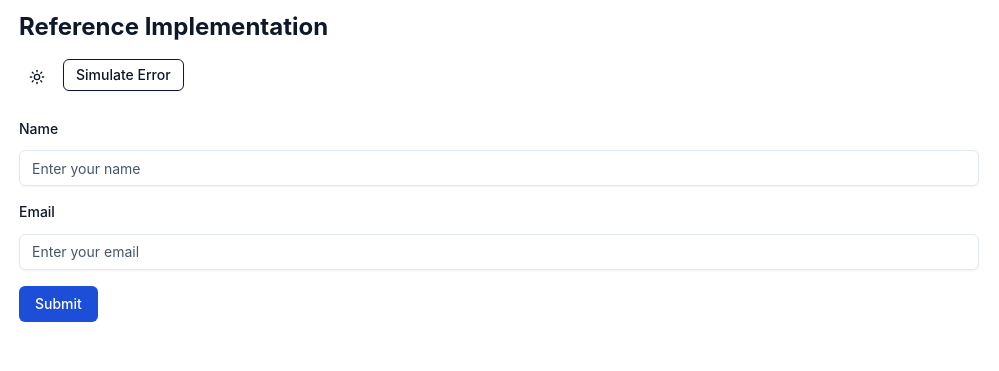
it: ReferencePage › shows error after focusing and blurring an empty field
The width and height of the screenshot is (999, 371).
Click the field labelled "Name" at coordinates (499, 168), box [19,150,979,186]
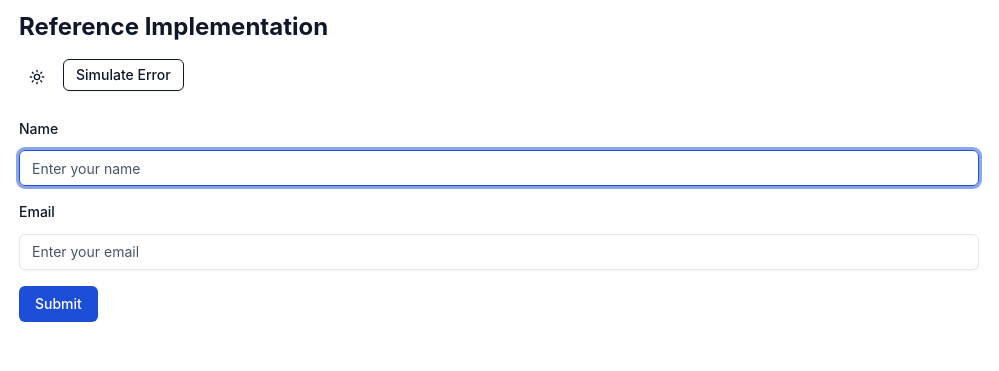
Press Tab
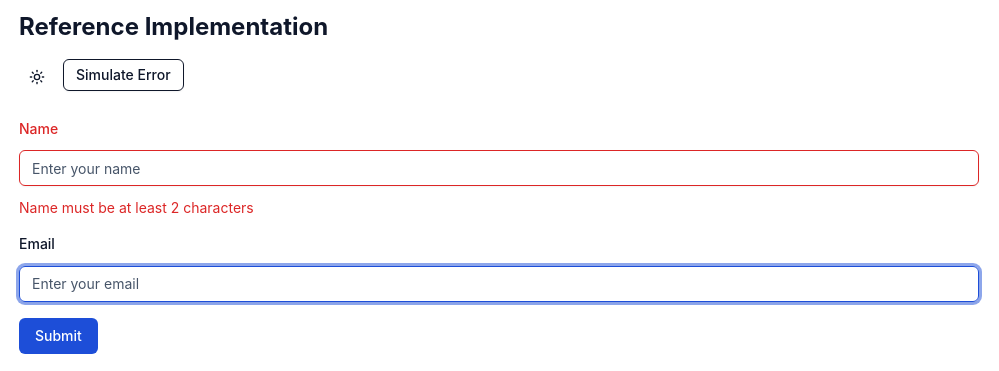
Expected: the text "Name must be at least 2 characters" is shown, [19,199,254,216]
